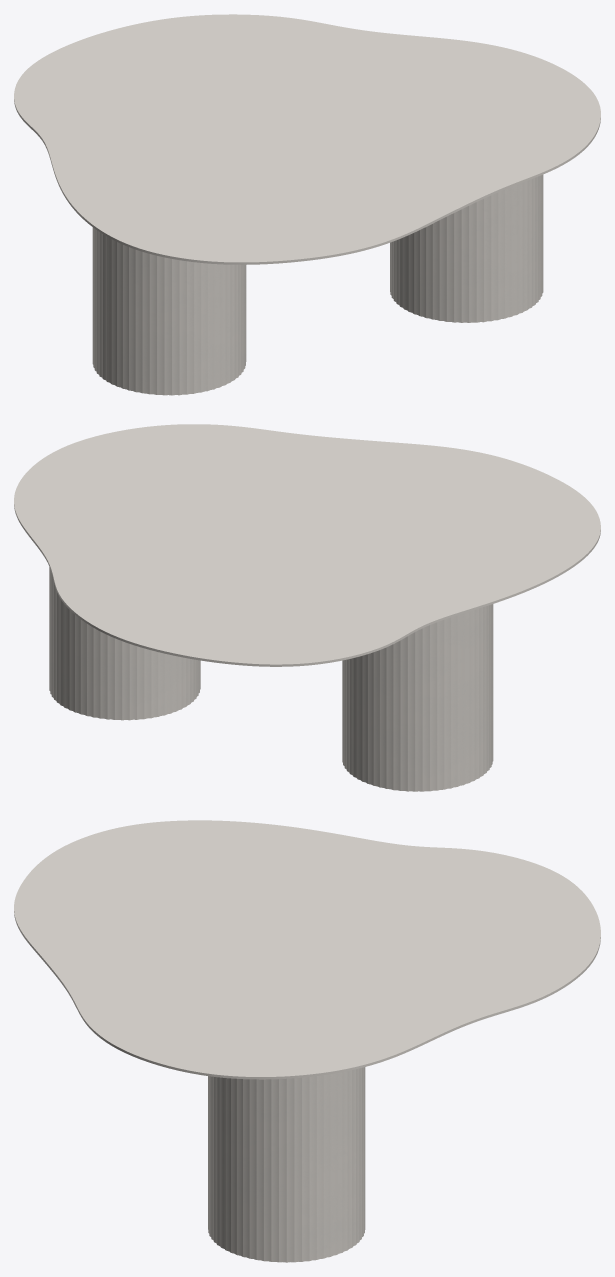
File: pearlwhite_topone_facet_ripplesecond.glb
3 views of the same model, one above another, from view 1: azimuth 30°, elevation 25°; view 2: azimuth 150°, elevation 25°; view 3: azimuth 270°, elevation 25° (orthographic). The views are drawn at different scales.
Visible parts, largest first — view 1: facet_topone, ripplesecond; view 2: facet_topone, ripplesecond; view 3: facet_topone, ripplesecond.
Part boxes in pixels (x1=…): facet_topone: x1=14, y1=14, x2=600, y2=264; ripplesecond: x1=92, y1=175, x2=543, y2=395; facet_topone: x1=14, y1=424, x2=600, y2=666; ripplesecond: x1=49, y1=567, x2=493, y2=791; facet_topone: x1=14, y1=820, x2=600, y2=1079; ripplesecond: x1=208, y1=1067, x2=365, y2=1262.
Size of the model in its own units: 6.83 by 2.5 by 6.6.
Materials: 1 (1 with a texture image).
